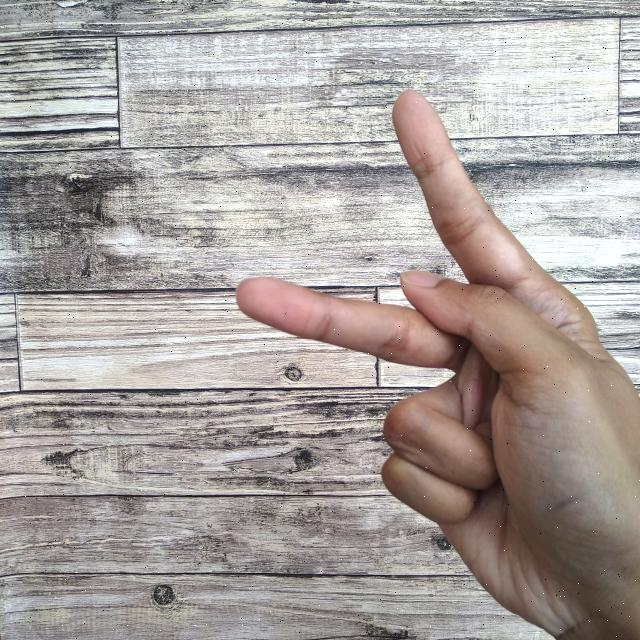K: (226, 82, 640, 640)
